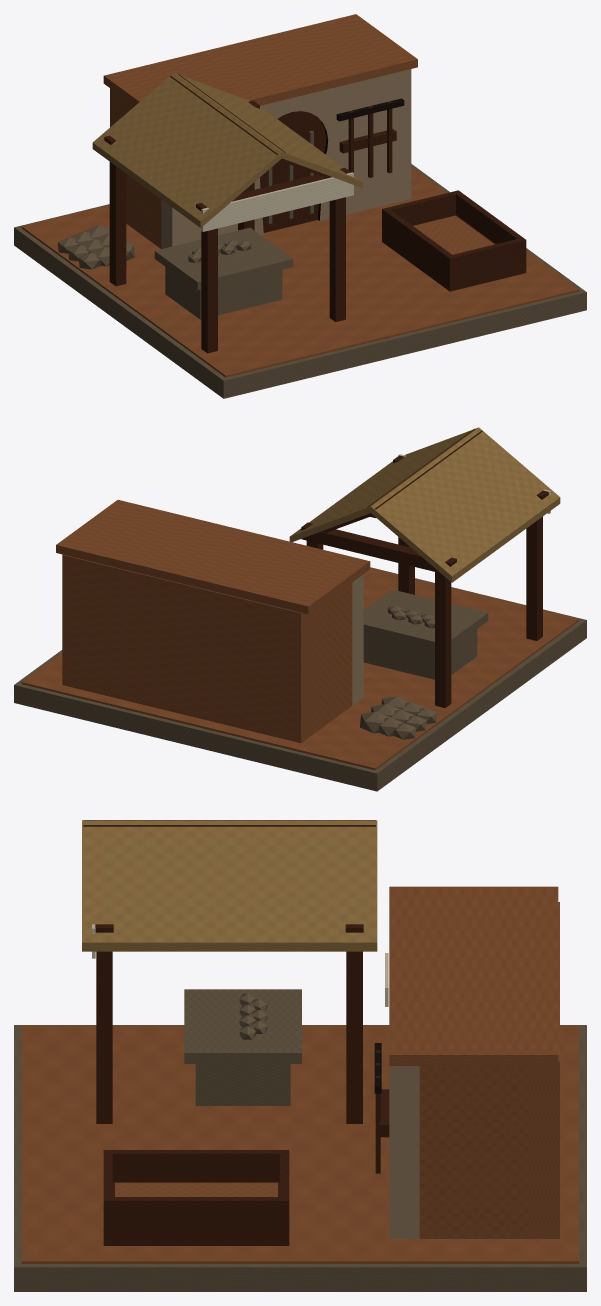
Rendered from Berber_Mining_Age1.fbx.
3 renders of one model, top to bottom at view 1: azimuth 30°, elevation 25°; view 2: azimuth 150°, elevation 25°; view 3: azimuth 270°, elevation 25°, orthographic. The views are drawn at different scales.
Visible parts, largest first — view 1: courtyard_floor, fitted_reed_roof, store_roof, courtyard_foundation, store_front, washing_trough, sorting_slab, fitted_reed_roof.001, owner_valance, sorting_plinth, horseshoe_door, shelter_post.001 (+6 smaller); view 2: store_backwall, store_roof, courtyard_floor, fitted_reed_roof, courtyard_foundation, store_sidewall, sorting_slab, fitted_reed_roof.001, sorting_plinth, back_crossbeam, shelter_post.001, shelter_post (+2 smaller); view 3: courtyard_floor, fitted_reed_roof.001, store_roof, courtyard_foundation, store_sidewall.001, washing_trough, sorting_slab, store_backwall, store_front, sorting_plinth, shelter_post.002, shelter_post.003 (+2 smaller).
Boxes of the visible parts, x1,y1,x2,y2 form: courtyard_floor: (21, 166, 579, 377); fitted_reed_roof: (92, 73, 281, 227); store_roof: (103, 14, 417, 105); courtyard_foundation: (14, 164, 586, 398); store_front: (161, 69, 411, 248); washing_trough: (382, 190, 526, 291); sorting_slab: (154, 227, 293, 290); fitted_reed_roof.001: (175, 73, 363, 188); owner_valance: (201, 172, 353, 231); sorting_plinth: (165, 267, 282, 319); horseshoe_door: (259, 111, 326, 232); shelter_post.001: (109, 162, 126, 286); store_backwall: (62, 554, 313, 743); store_roof: (56, 500, 370, 614); courtyard_floor: (21, 568, 579, 770); fitted_reed_roof: (370, 427, 560, 582); courtyard_foundation: (14, 567, 586, 791); store_sidewall: (313, 582, 352, 733); sorting_slab: (363, 589, 488, 649); fitted_reed_roof.001: (289, 427, 478, 542); sorting_plinth: (363, 629, 477, 679); back_crossbeam: (301, 522, 456, 573); shelter_post.001: (435, 572, 451, 707); shelter_post: (526, 516, 542, 640); courtyard_floor: (21, 1025, 579, 1263); fitted_reed_roof.001: (82, 820, 377, 951); store_roof: (389, 886, 558, 1065); courtyard_foundation: (14, 1025, 586, 1291); store_sidewall.001: (419, 1066, 526, 1238); washing_trough: (103, 1150, 289, 1245); sorting_slab: (184, 989, 301, 1063); store_backwall: (526, 902, 559, 1238); store_front: (389, 1066, 419, 1238); sorting_plinth: (195, 1064, 290, 1105); shelter_post.002: (96, 951, 112, 1123); shelter_post.003: (346, 951, 362, 1123).
Size of the model in its own units: 380 by 209 by 380.
6 materials, 6 textured.
